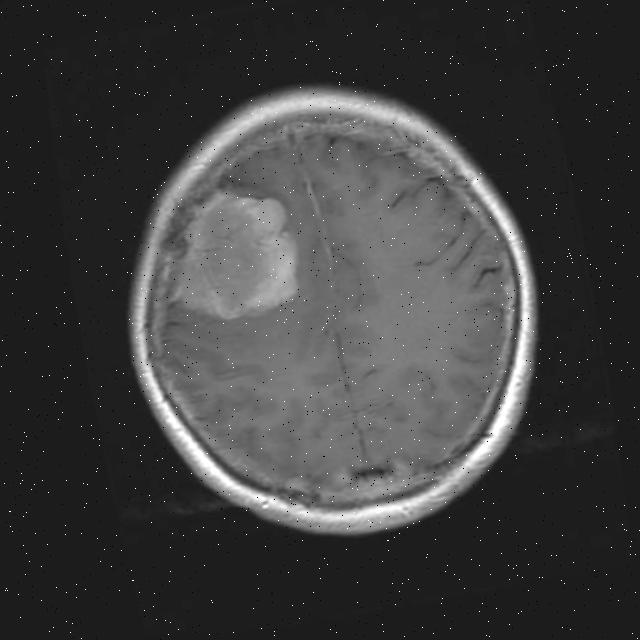Meningioma: (158, 181, 309, 331)
